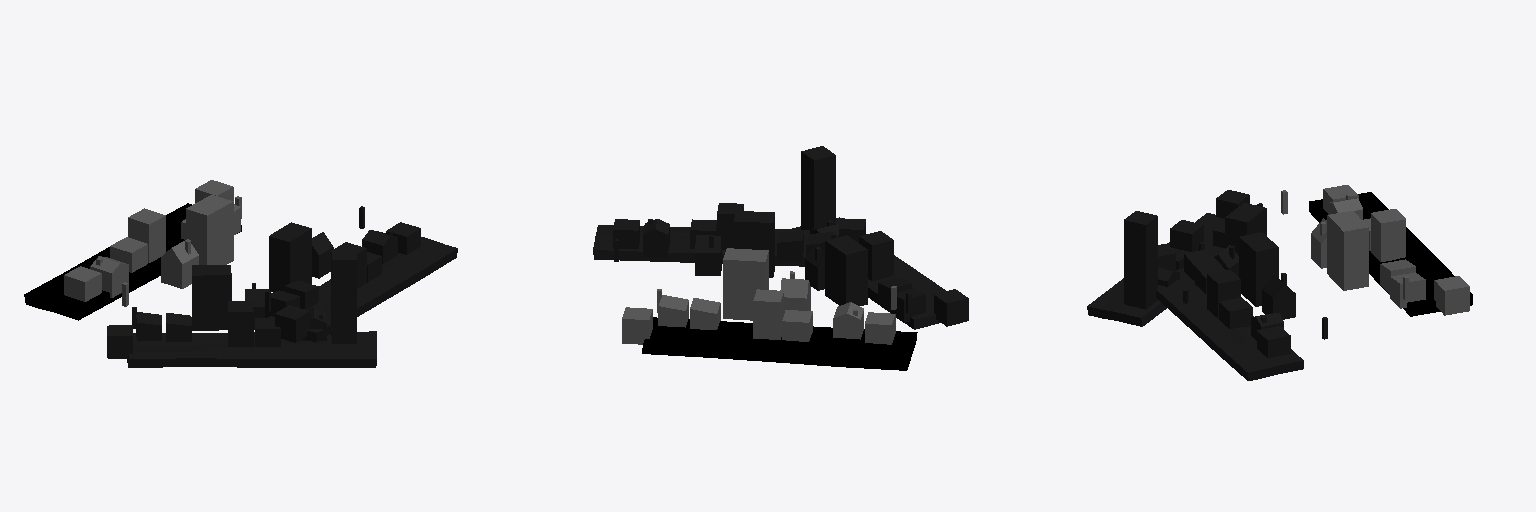
Rendered from city.obj.
The picture shows the model from 3 angles: view 1: azimuth 30°, elevation 25°; view 2: azimuth 150°, elevation 25°; view 3: azimuth 270°, elevation 25°; orthographic projection.
Parts seen in each view (by area): view 1: Cube.005; view 2: Cube.005; view 3: Cube.005.
Part boxes in pixels (x1,y1,x2,y2): Cube.005: (24, 180, 457, 367); Cube.005: (593, 146, 968, 370); Cube.005: (1087, 185, 1472, 380).
Bounding box in the file's own units: 51.7 × 12.57 × 46.44.